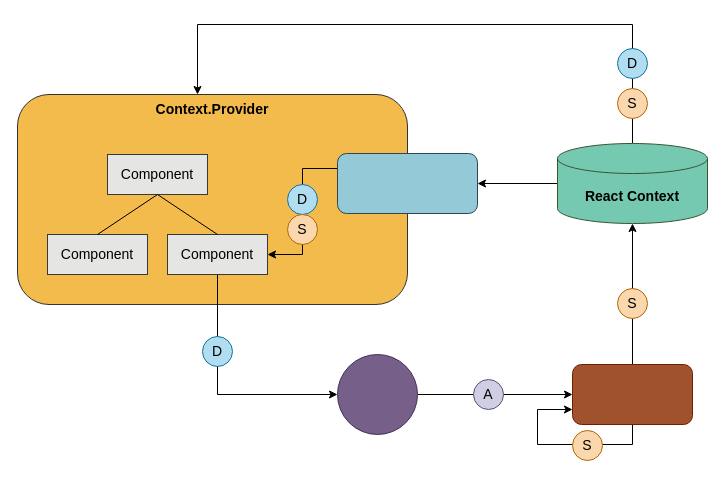
This 725x478 diagram has some shape labels left out. Each missing label, with the centre of its shape:
"Actions" belongs at point 377,394.
"Context.Consumer" belongs at point 407,183.
"Reducers" belongs at point 632,394.
